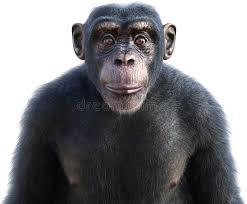non-mango: (0, 0, 246, 203)
